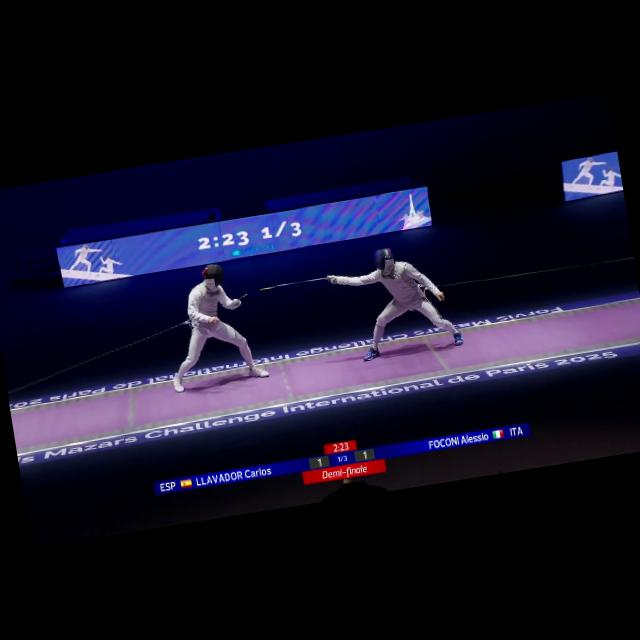blade: (255, 269, 338, 298), (231, 292, 253, 308)
